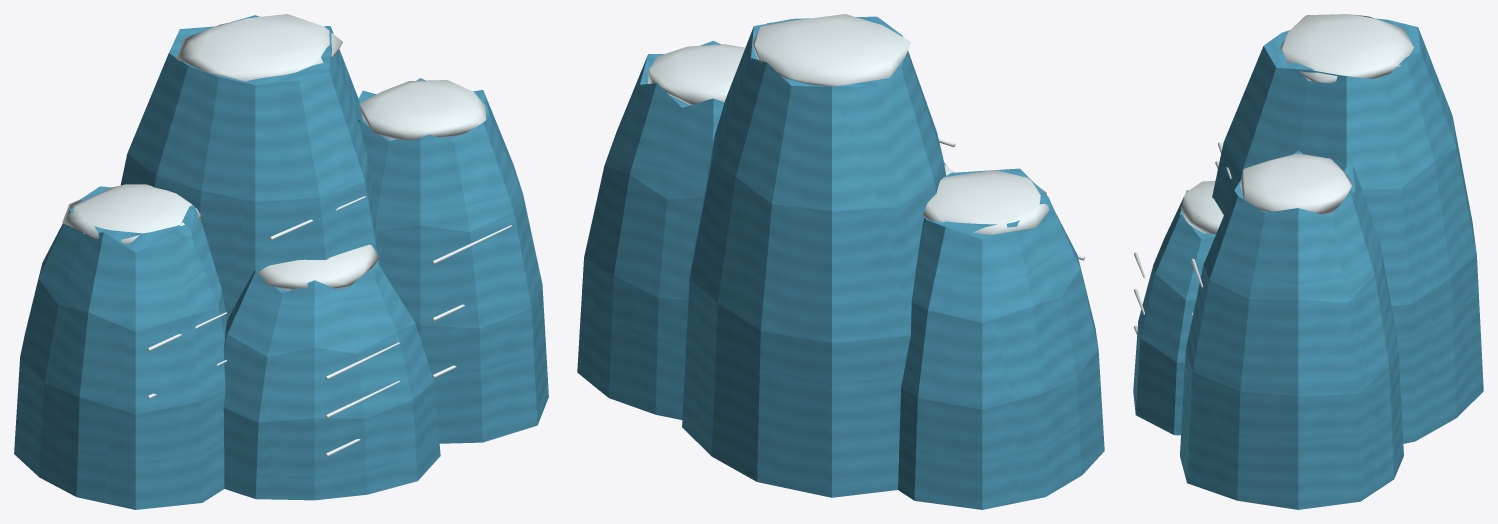
File: glacier.glb
The picture shows the model from 3 angles, left to right: view 1: azimuth 30°, elevation 25°; view 2: azimuth 150°, elevation 25°; view 3: azimuth 270°, elevation 25°; orthographic projection. The views are drawn at different scales.
Parts seen in each view (by area): view 1: Surface GlacierIce, Surface SnowCaps, Fine SnowCaps; view 2: Surface GlacierIce, Surface SnowCaps; view 3: Surface GlacierIce, Surface SnowCaps, Fine SnowCaps.
Boxes of the visible parts, x1,y1,x2,y2 form: Surface GlacierIce: (14,15,548,509); Surface SnowCaps: (62,14,486,290); Fine SnowCaps: (147,196,511,456); Surface GlacierIce: (577,16,1104,509); Surface SnowCaps: (648,14,1049,234); Surface GlacierIce: (1133,18,1483,509); Surface SnowCaps: (1181,14,1413,234); Fine SnowCaps: (1134,142,1231,335).
Bounding box in the file's own units: 6.59 × 4.89 × 4.35.
2 materials, 1 textured.
